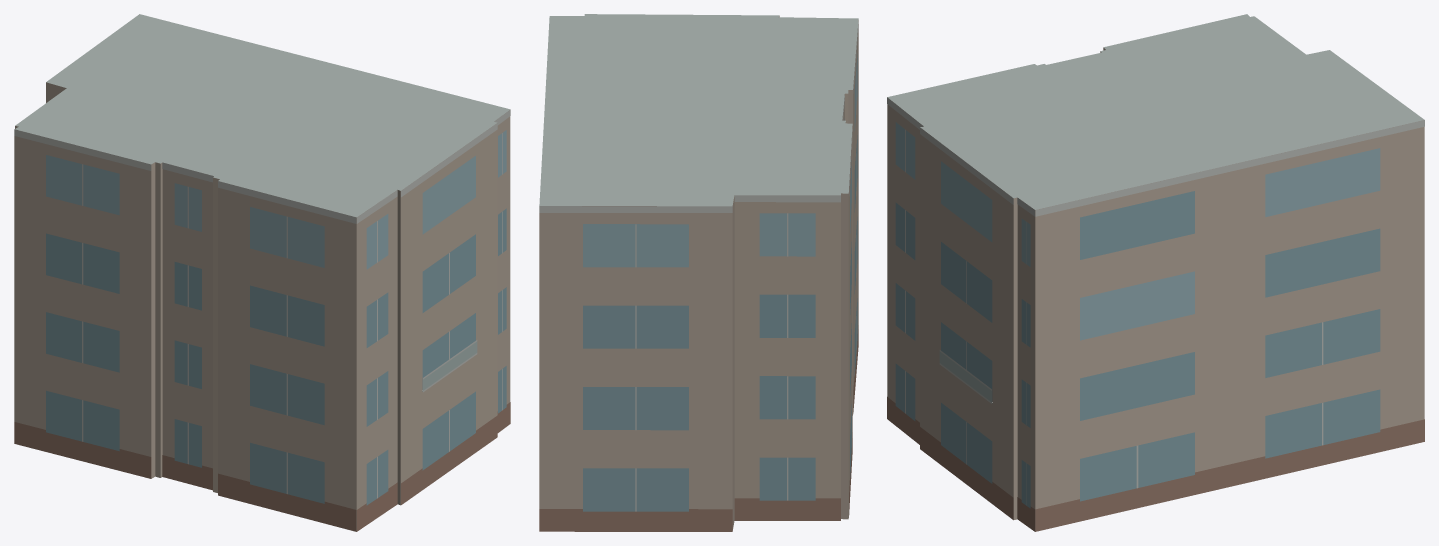
File: survey-upis-32641435.glb
3 views of the same model, side by side, from view 1: azimuth 30°, elevation 25°; view 2: azimuth 150°, elevation 25°; view 3: azimuth 270°, elevation 25° (orthographic). The views are drawn at different scales.
Visible parts, largest first — view 1: survey-upis-32641435.tmp; view 2: survey-upis-32641435.tmp; view 3: survey-upis-32641435.tmp.
Boxes of the visible parts, x1,y1,x2,y2 form: survey-upis-32641435.tmp: (14,14,510,531); survey-upis-32641435.tmp: (539,14,858,531); survey-upis-32641435.tmp: (887,14,1424,531).
Bounding box in the file's own units: 15.03 × 11.5 × 17.42.
